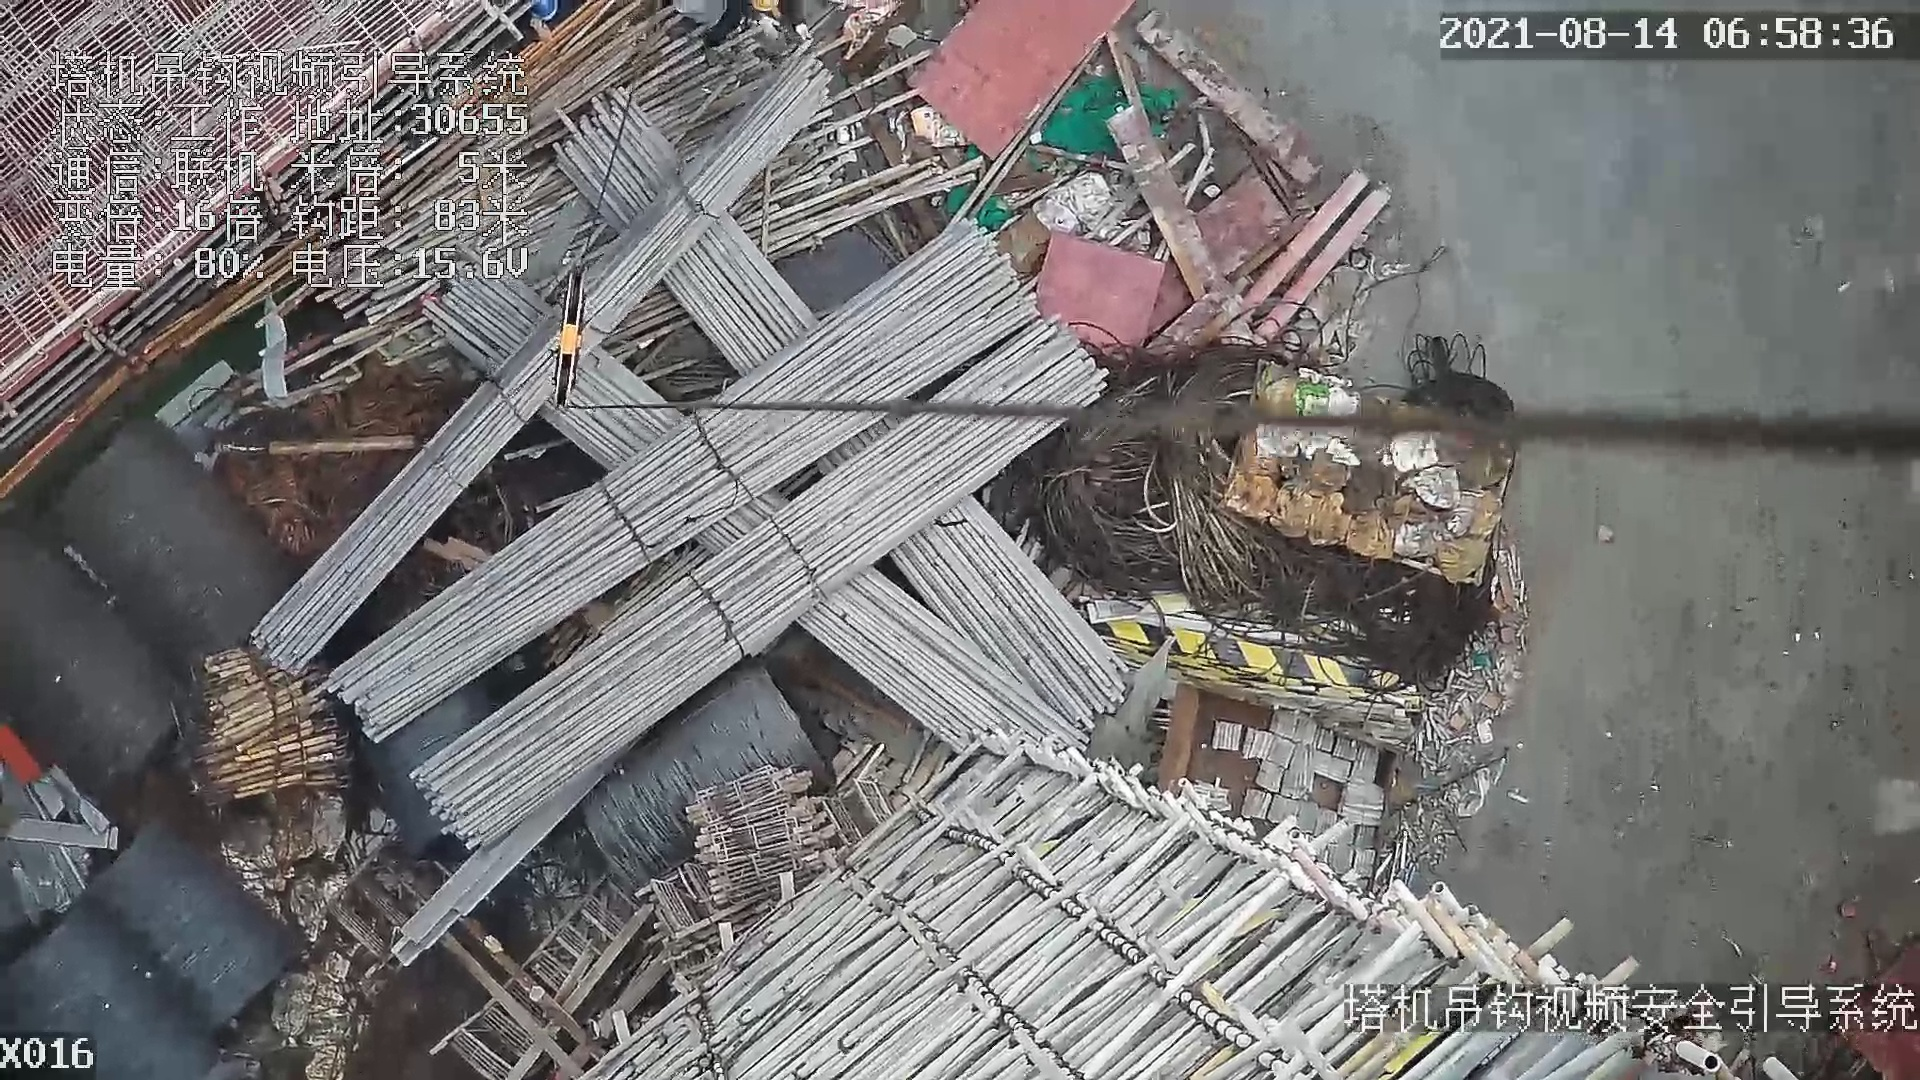hook: (538, 265, 588, 414)
rebar: (251, 54, 843, 683), (334, 220, 1039, 746), (415, 319, 1104, 849), (887, 496, 1127, 723), (802, 572, 1092, 760)
scaffold: (200, 645, 344, 796)
